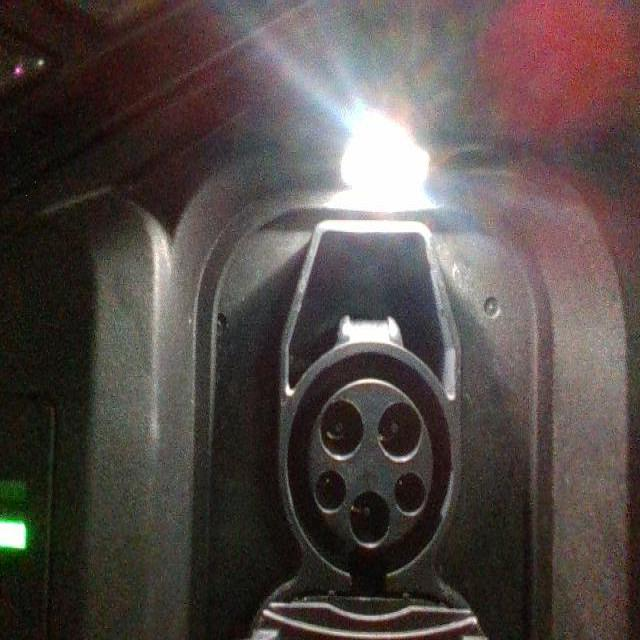Type 1: (268, 372, 454, 572)
